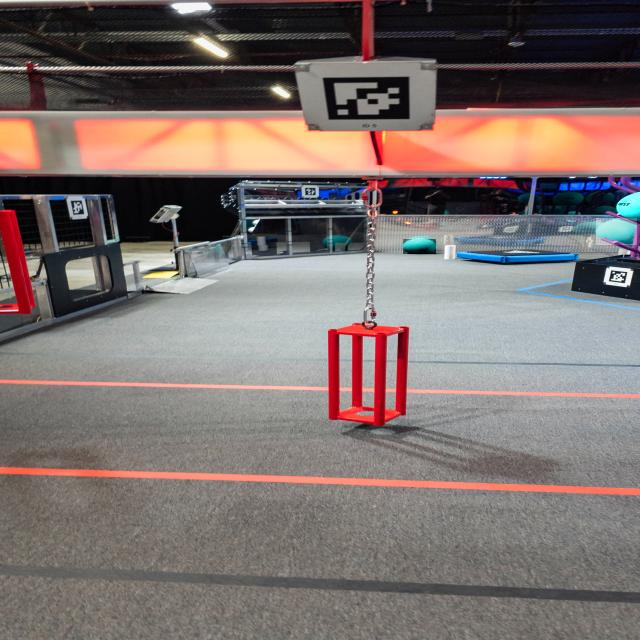Algae: (596, 218, 637, 245), (617, 192, 640, 222), (403, 239, 436, 254)
